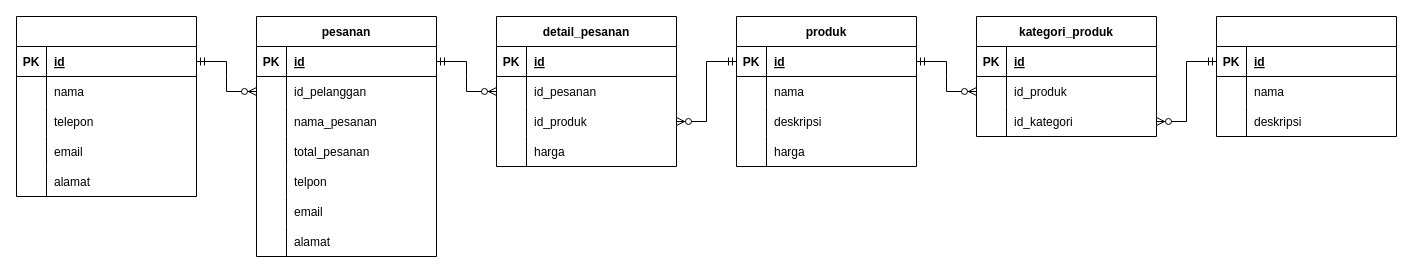
The diagram is 1413 pixels wide and 273 high, and some of its shapes have lost their labels. The shapes that lost their labels are listed below. From the top down, each one's box as (x1, y1, x2, y2) in pixels, then its label:
(1216, 16, 1396, 136): kategori
(16, 16, 196, 196): pelanggan
